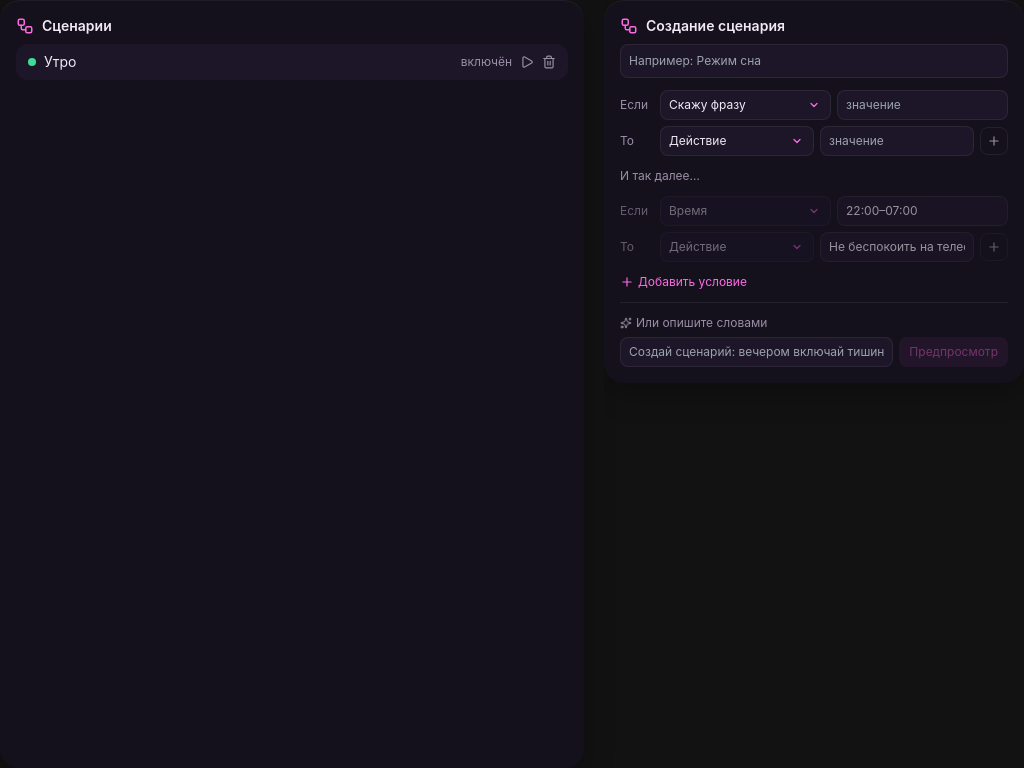
Test: сценарии: запуск, журнал по событиям сервера, удаление с подтверждением
Later steps or results of the test are not shown.
Click the button named "Запустить: Утро": (527, 62) [520,55,534,69]
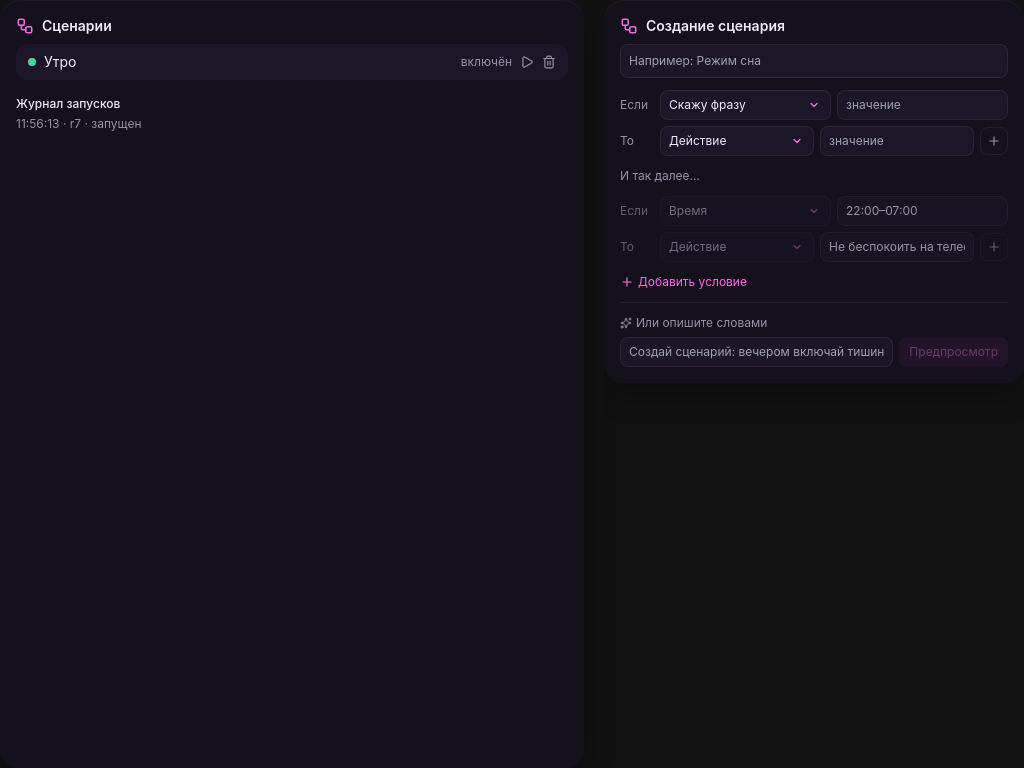
Now the list named "Журнал запусков" shows "запущен", box [91,116,142,131]
